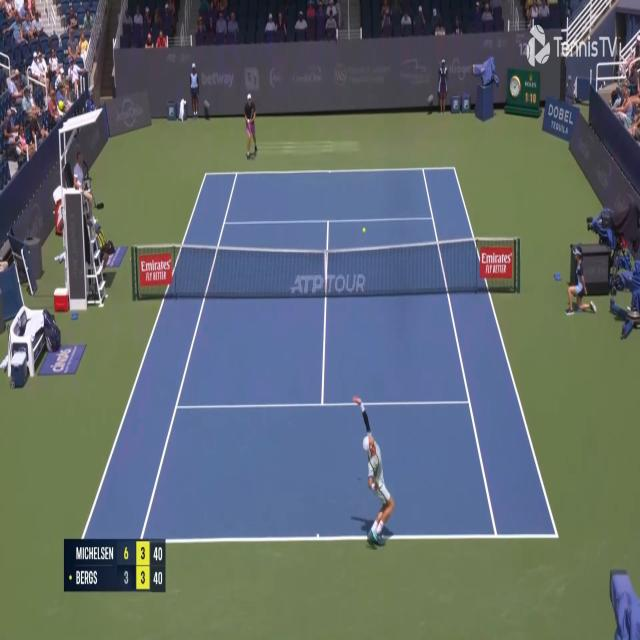tennis-player: (351, 388, 395, 552), (243, 92, 258, 161)
